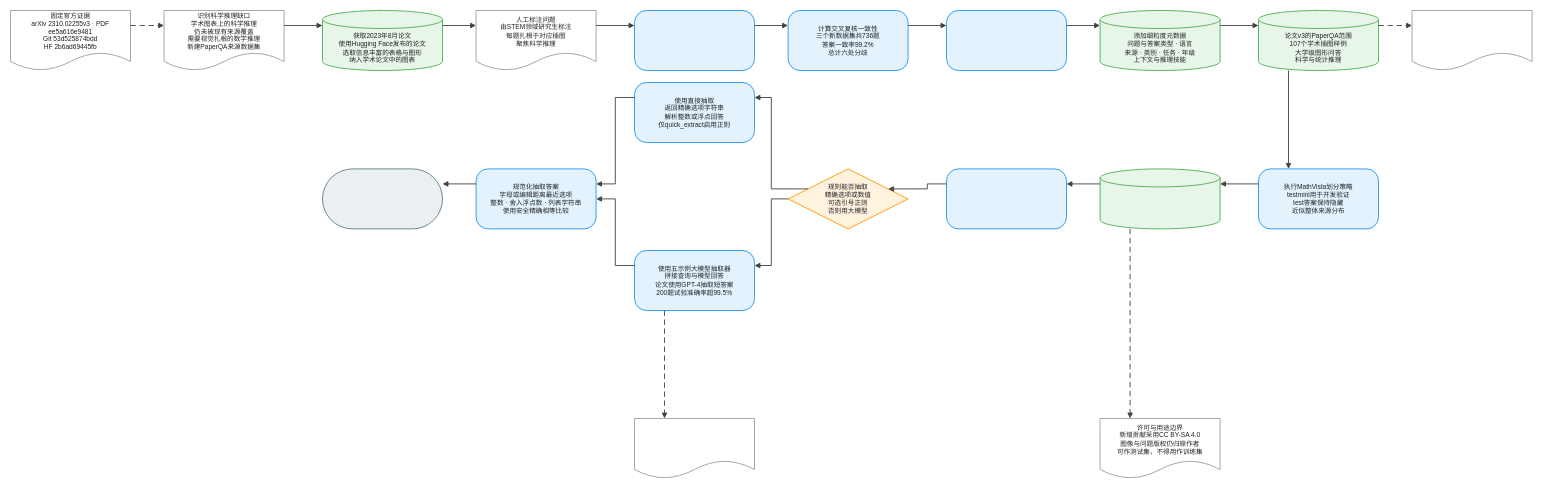
Image size: 1543x490. Some labels were removed from this diagram. Each missing label, with the centre of its shape:
"封装固定官方发布 发布JSON含108条PaperQA testmini 19条 · test 89条 图像 · 问题 · 选项 · 元数据" belongs at pixel 1159 198.
"报告确定性准确率 统计规范化后的精确匹配 按来源与元数据拆分 PaperQA仍是MathVista子集" belongs at pixel 382 198.
"抽取器复现边界 论文仅说明GPT-4，未给检查点 代码读取AZURE_OPENAI_MODEL 端点与部署位于外部" belongs at pixel 694 448.
"独立复核每个数据集 三名复核者标注答案 执行两步一致性流程 对比复核者答案标签" belongs at pixel 694 40.
"生成模型回答 单独传入图像 类型提示 · 问题 · 选项 可选图像描述与OCR上下文" belongs at pixel 1006 198.
"解决六处分歧 全体复核团队逐题讨论 修正有歧义的答案标签 每个样例达成共识" belongs at pixel 1006 40.
"论文与发布计数边界 论文v3记载107个样例 固定JSON含108条：19加89 主流程同时保留两项事实" belongs at pixel 1471 40.
